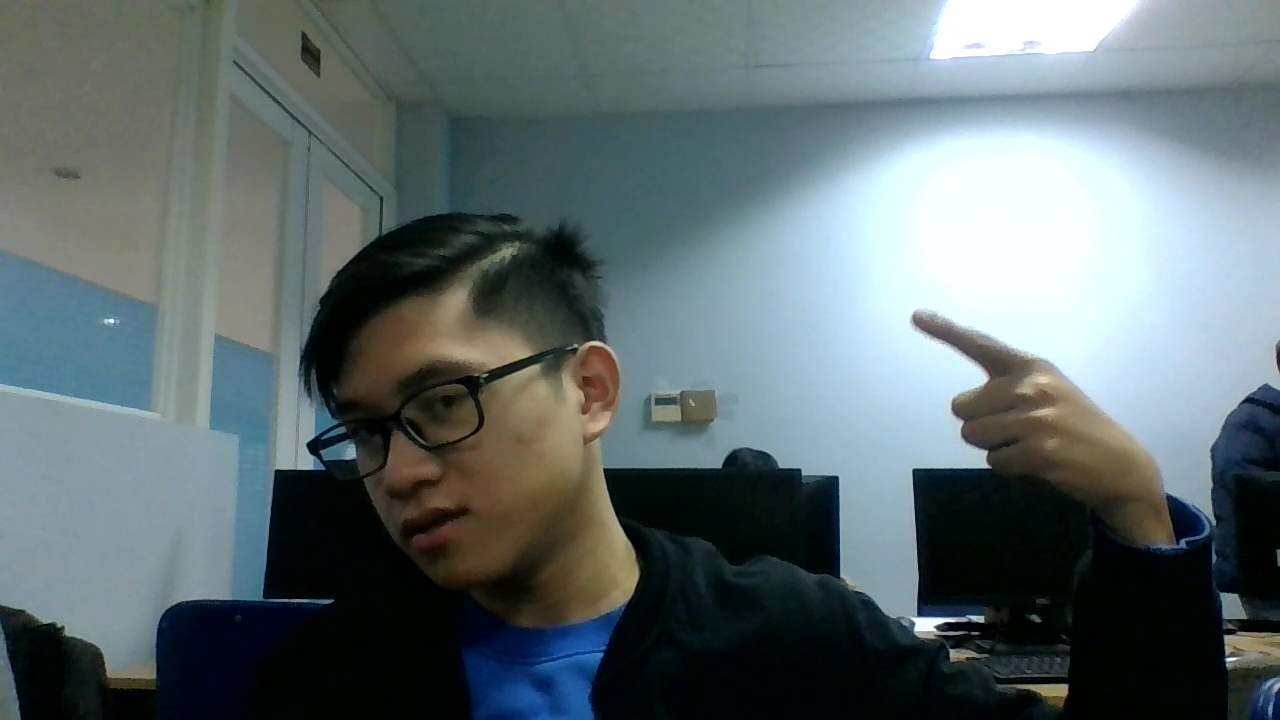right: (912, 304, 1184, 506)
